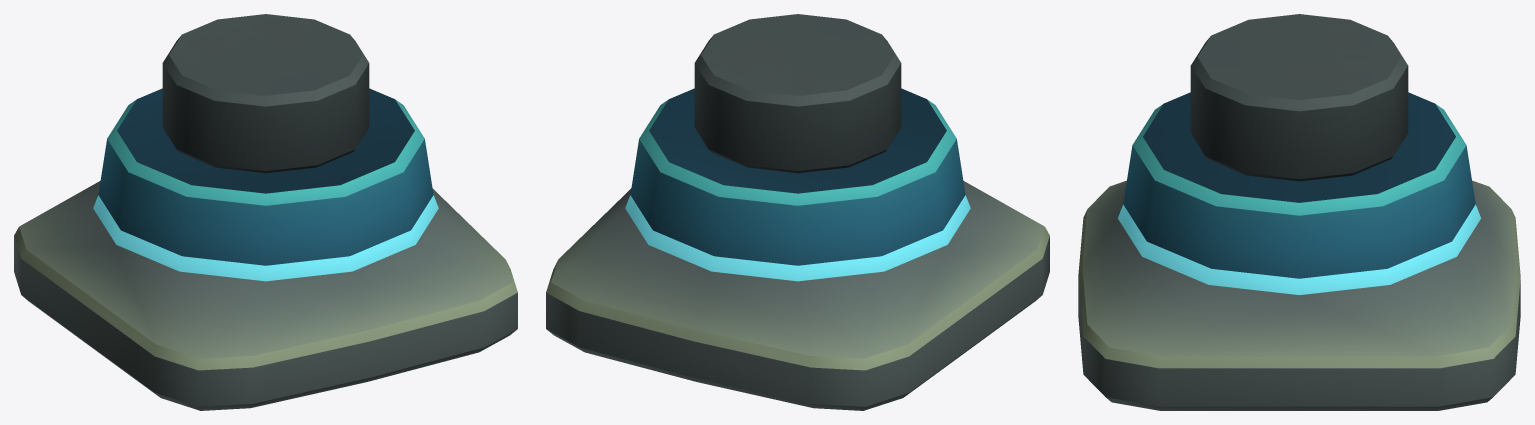
File: matt-gun-base.glb
The picture shows the model from 3 angles, left to right: view 1: azimuth 30°, elevation 25°; view 2: azimuth 150°, elevation 25°; view 3: azimuth 270°, elevation 25°; orthographic projection. The views are drawn at different scales.
Parts seen in each view (by area): view 1: turret_gun_base; view 2: turret_gun_base; view 3: turret_gun_base.
Boxes of the visible parts, x1=… form: turret_gun_base: x1=14, y1=14, x2=517, y2=410; turret_gun_base: x1=546, y1=14, x2=1049, y2=410; turret_gun_base: x1=1078, y1=14, x2=1520, y2=410.
Size of what is drawn, in the model's own units: 1.87 by 1.27 by 1.91.
1 material, 1 textured.
